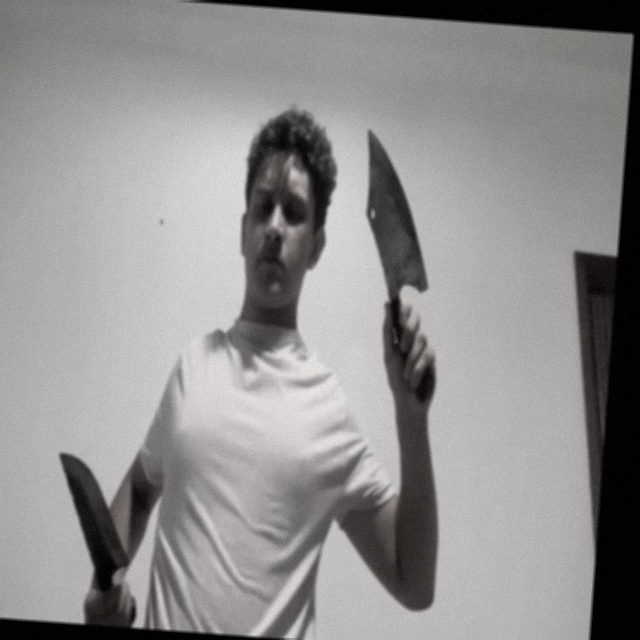Sharp-Object: (354, 128, 439, 298), (50, 449, 135, 571)
